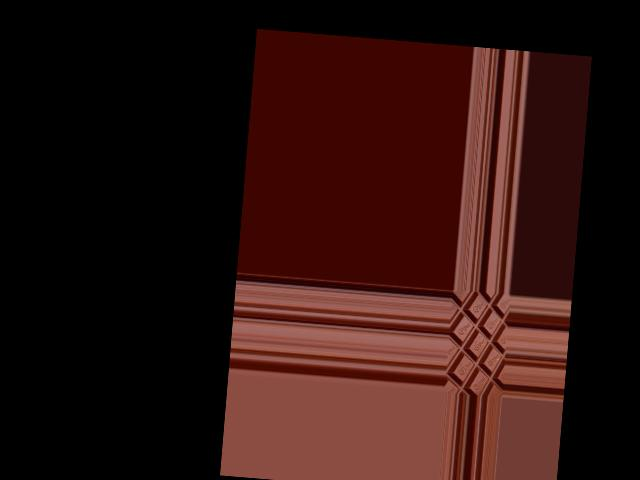chocolate: (443, 292, 508, 397)
